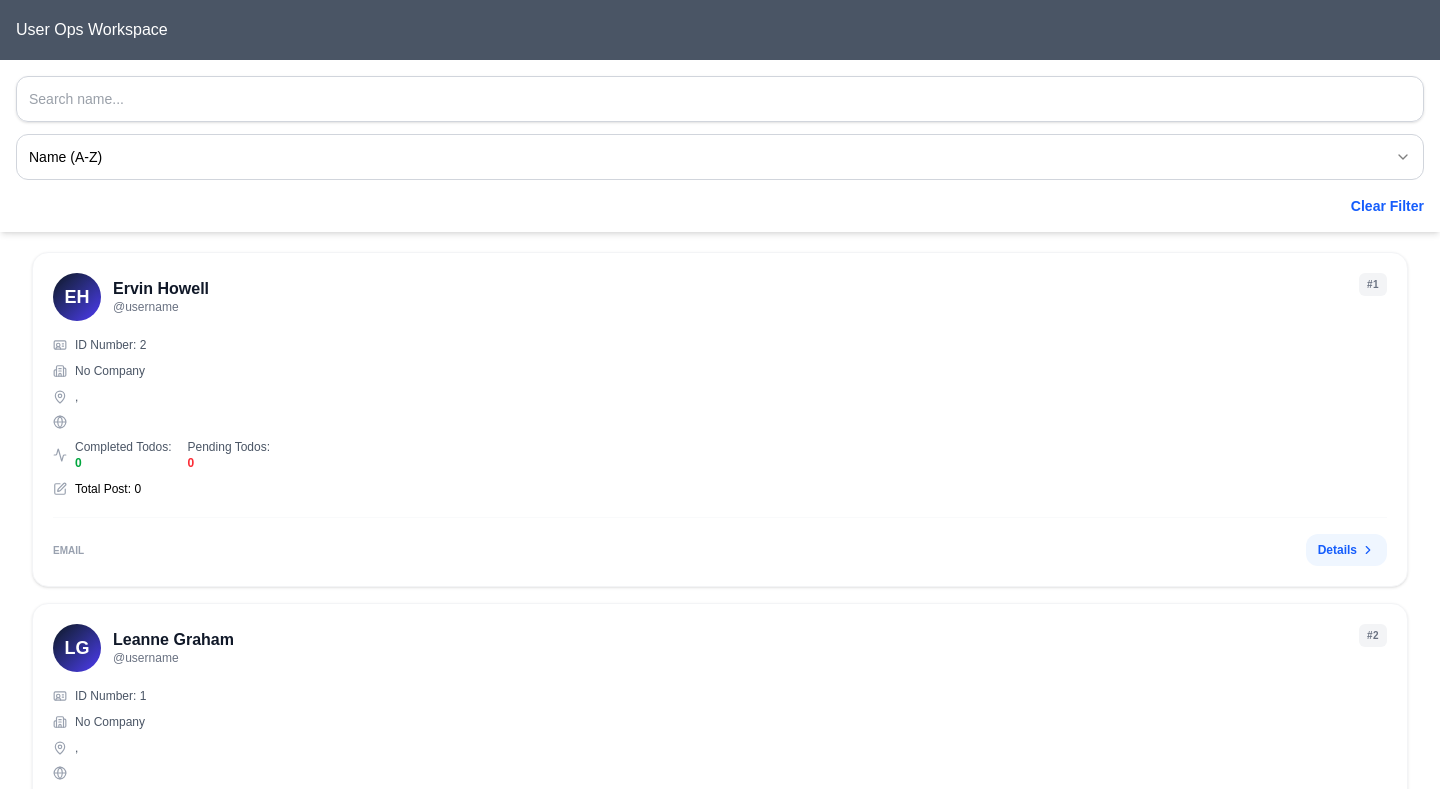
it: UsersMobile Test › should show empty state message when no users found
Type "User Tidak Ada" into the field with placeholder "Search name...".
click(720, 99); type("User Tidak Ada")  # box [16,76,1424,122]
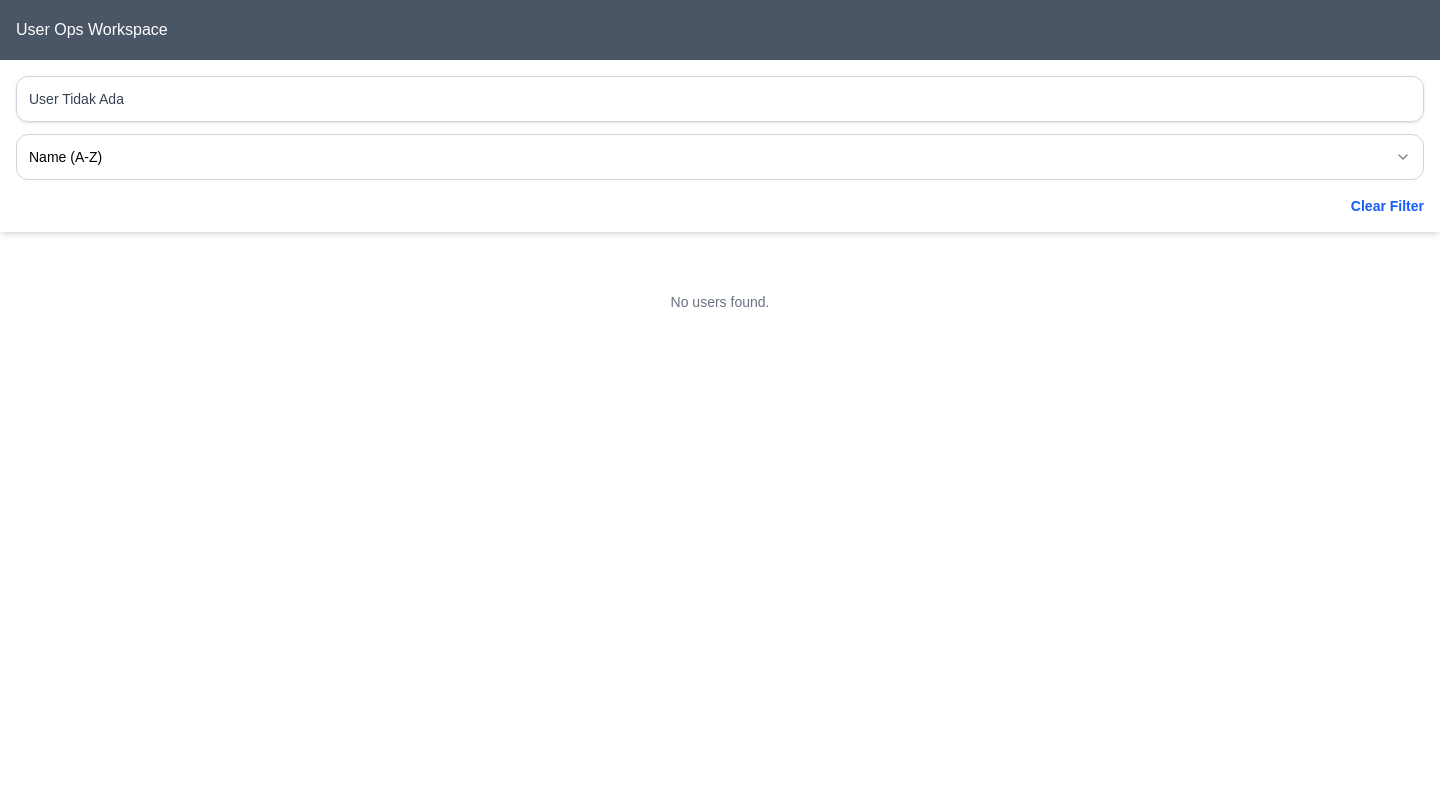
Expected: the text "No users found." is shown, [671,294,769,310]
